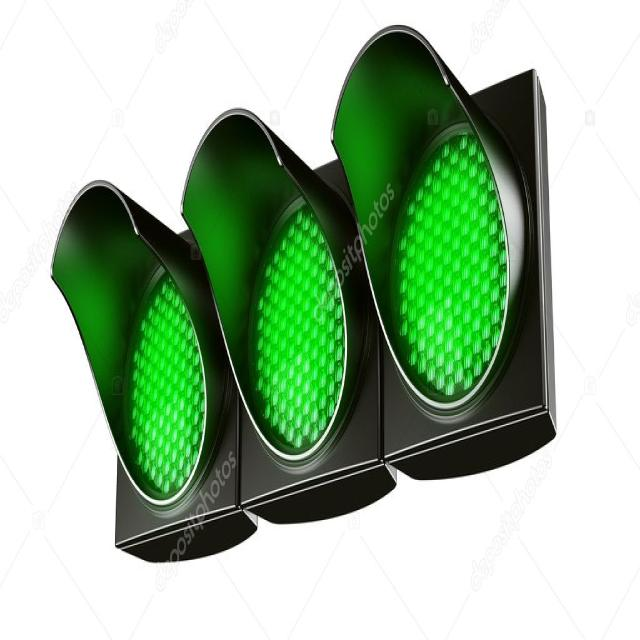green: (67, 206, 208, 485), (378, 150, 511, 429), (228, 182, 333, 449)
